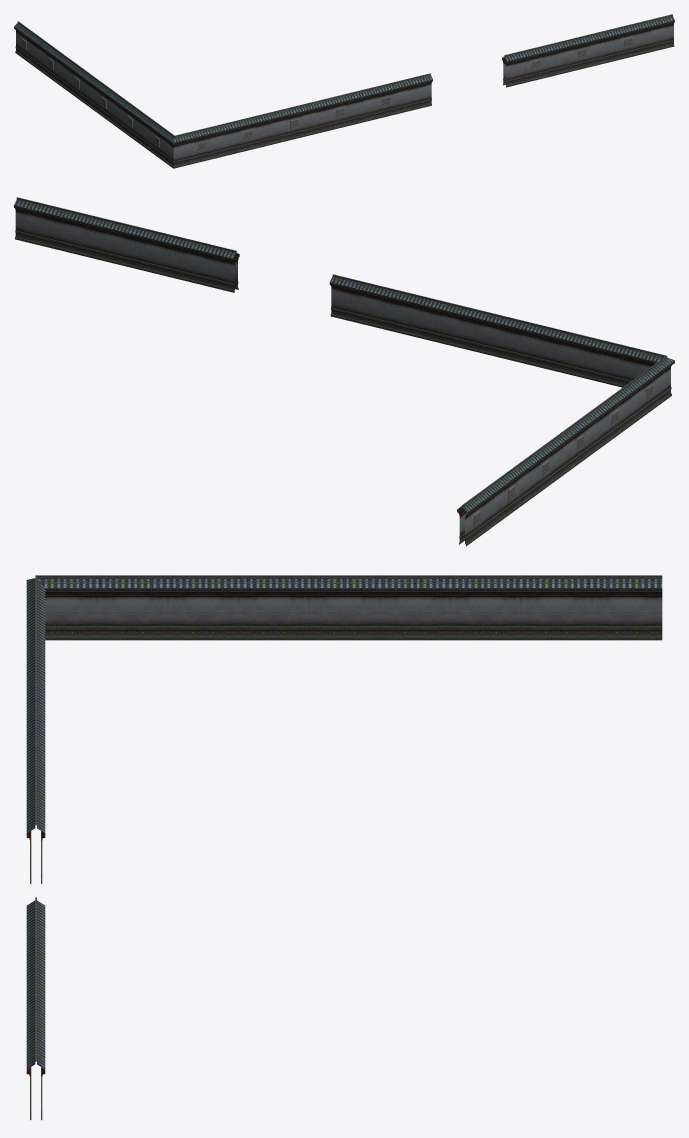
File: HYC_weiqiang_04.FBX
3 renders of one model, top to bottom at view 1: azimuth 30°, elevation 25°; view 2: azimuth 150°, elevation 25°; view 3: azimuth 270°, elevation 25°, orthographic. The views are drawn at different scales.
Visible parts, largest first — view 1: HYC_weiqiang_04; view 2: HYC_weiqiang_04; view 3: HYC_weiqiang_04.
Boxes of the visible parts, left/top/right/bottom form: HYC_weiqiang_04: left=14, top=14, right=674, bottom=168; HYC_weiqiang_04: left=14, top=197, right=674, bottom=546; HYC_weiqiang_04: left=26, top=575, right=662, bottom=1120.
Bounding box in the file's own units: 7360 × 435 × 4036.
